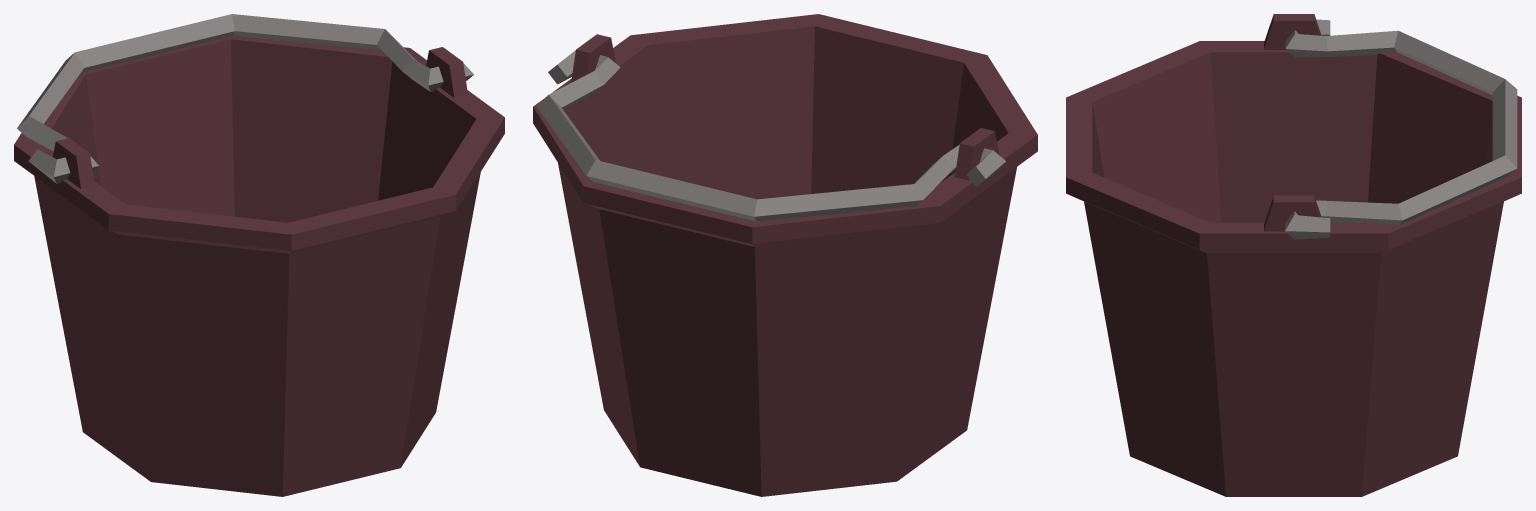
The model's file is bucket-construction.fbx.
The picture shows the model from 3 angles, left to right: view 1: azimuth 30°, elevation 25°; view 2: azimuth 150°, elevation 25°; view 3: azimuth 270°, elevation 25°; orthographic projection. The views are drawn at different scales.
Visible parts, largest first — view 1: bucket-construction; view 2: bucket-construction; view 3: bucket-construction.
Part boxes in pixels (bbox=[...]): bucket-construction: bbox=[14, 14, 504, 496]; bucket-construction: bbox=[533, 14, 1037, 496]; bucket-construction: bbox=[1066, 14, 1521, 496].
Bounding box in the file's own units: 0.391 × 0.2815 × 0.3638.
